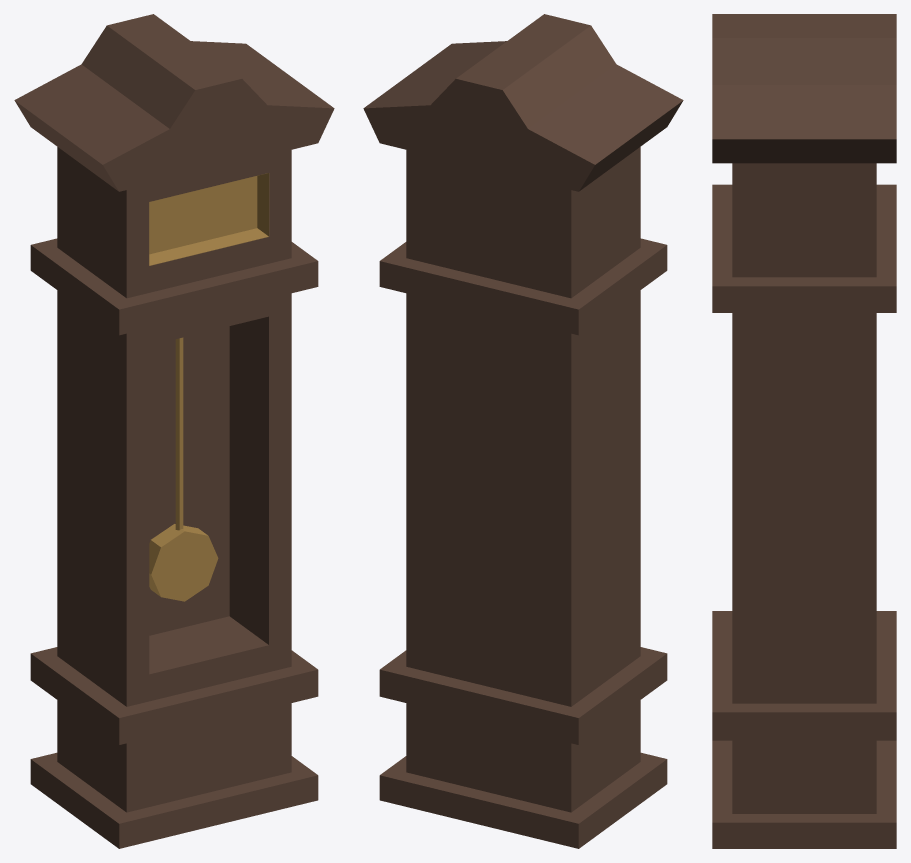
Rendered from pendule.FBX.
3 views of the same model, side by side, from view 1: azimuth 30°, elevation 25°; view 2: azimuth 150°, elevation 25°; view 3: azimuth 270°, elevation 25° (orthographic). The views are drawn at different scales.
Visible parts, largest first — view 1: pendule; view 2: pendule; view 3: pendule.
Boxes of the visible parts, left/top/right/bottom form: pendule: left=14, top=14, right=334, bottom=848; pendule: left=363, top=14, right=683, bottom=848; pendule: left=712, top=14, right=896, bottom=848.
Size of the model in its own units: 48.99 by 149 by 32.38.
Materials: 1 (1 with a texture image).
